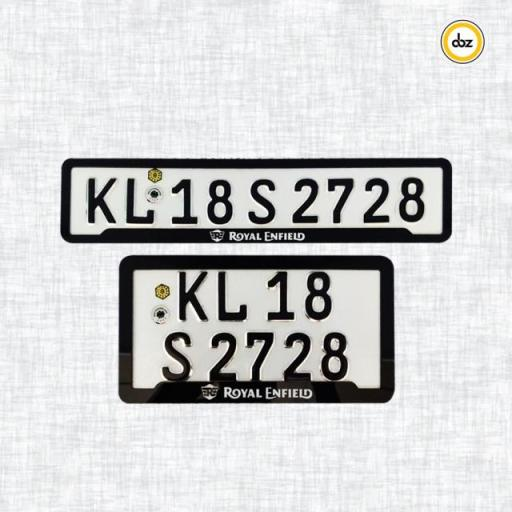number plate: (127, 263, 390, 399), (68, 162, 449, 240)
